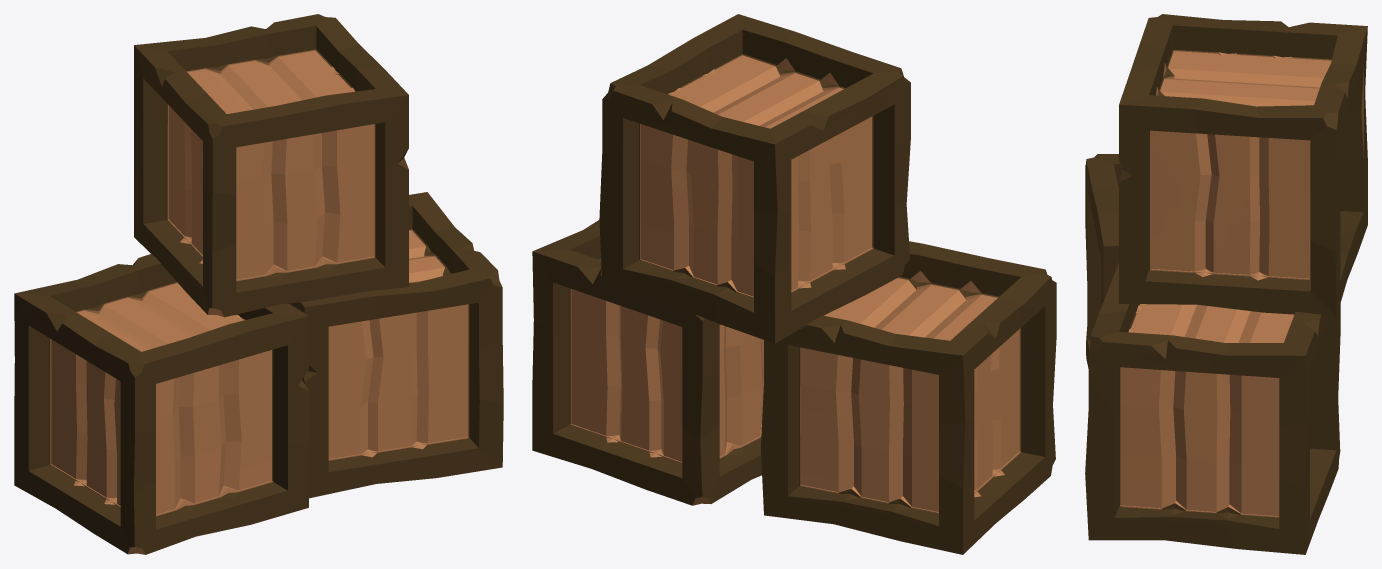
The model's file is Boxes.fbx.
3 views of the same model, side by side, from view 1: azimuth 30°, elevation 25°; view 2: azimuth 150°, elevation 25°; view 3: azimuth 270°, elevation 25° (orthographic). The views are drawn at different scales.
Visible parts, largest first — view 1: box wood; view 2: box wood; view 3: box wood.
Part boxes in pixels (bbox=[...]): box wood: bbox=[14, 14, 503, 554]; box wood: bbox=[532, 14, 1056, 554]; box wood: bbox=[1085, 14, 1367, 554].
Size of the model in its own units: 179 by 158 by 102.
